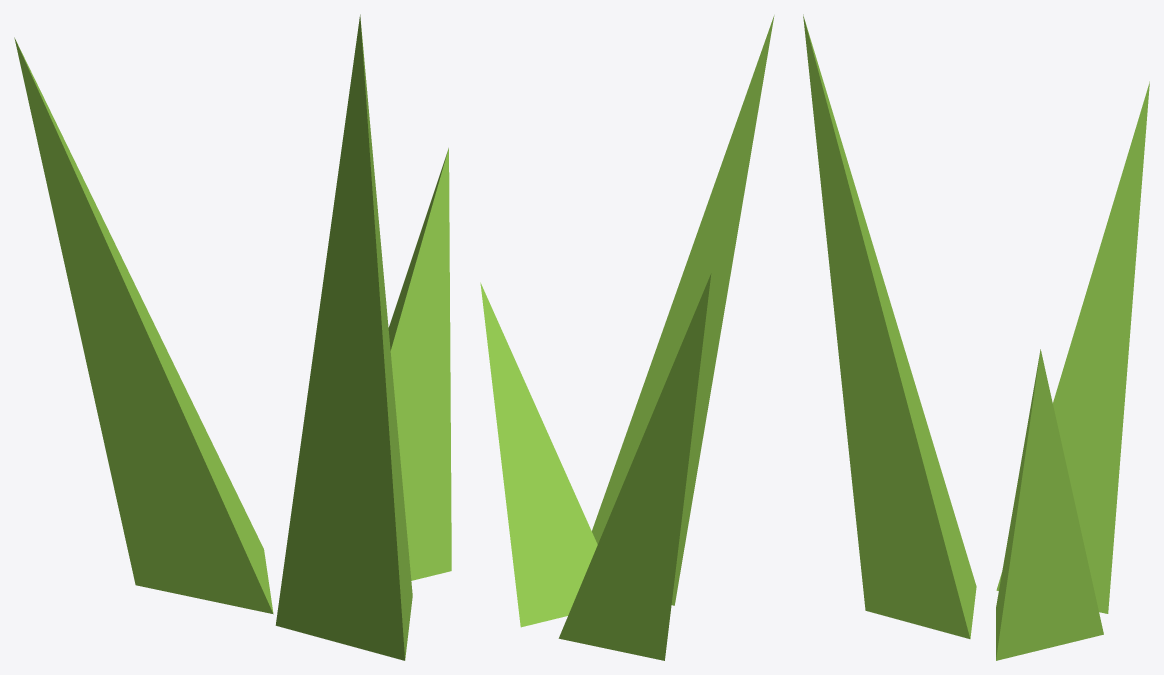
File: grass_1.glb
3 views of the same model, side by side, from view 1: azimuth 30°, elevation 25°; view 2: azimuth 150°, elevation 25°; view 3: azimuth 270°, elevation 25° (orthographic). The views are drawn at different scales.
Visible parts, largest first — view 1: Cylinder; view 2: Cylinder; view 3: Cylinder.
Boxes of the visible parts, x1,y1,x2,y2 form: Cylinder: (14,14,451,660); Cylinder: (480,15,774,660); Cylinder: (803,14,1149,660).
Size of the model in its own units: 0.4576 by 0.8279 by 0.4618.
